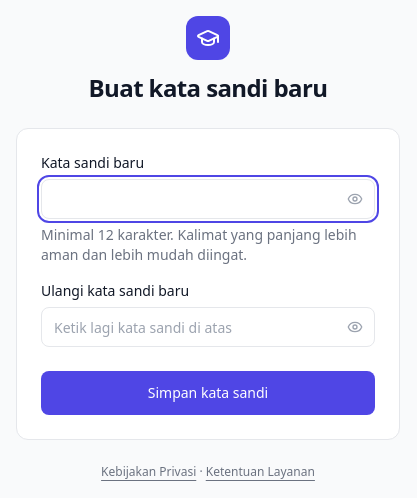
Test: ResetPasswordPage › sends the token from the query string with the new password
The width and height of the screenshot is (417, 498).
Type "kalimat-yang-panjang" into the password field labelled "Kata sandi baru" at (208, 199), box [41, 179, 375, 219]
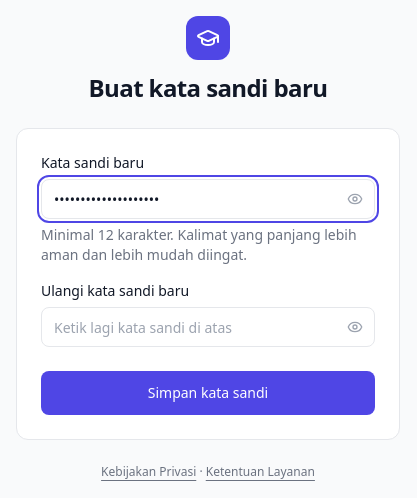
Type "kalimat-yang-panjang" into the password field labelled "Ulangi kata sandi baru" at (208, 327), box [41, 307, 375, 347]
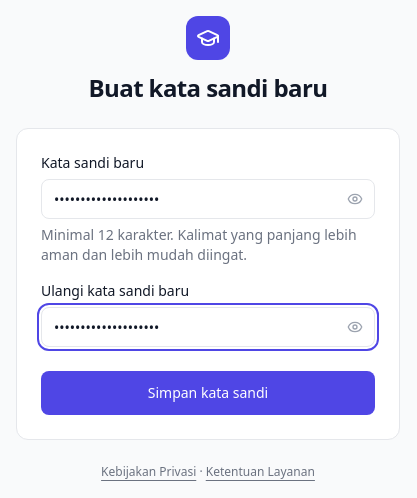
Click the button "Simpan kata sandi" at (208, 393), box [41, 371, 375, 415]
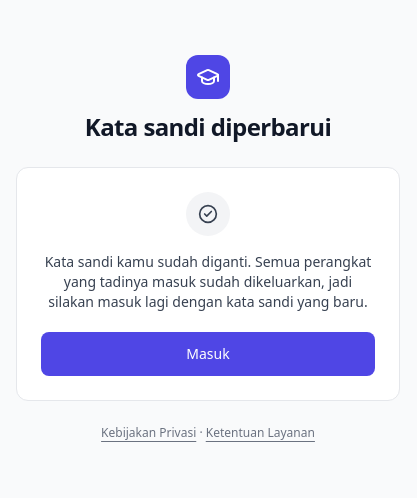
Result: the heading "Kata sandi diperbarui" is shown at [85, 111, 331, 143]
